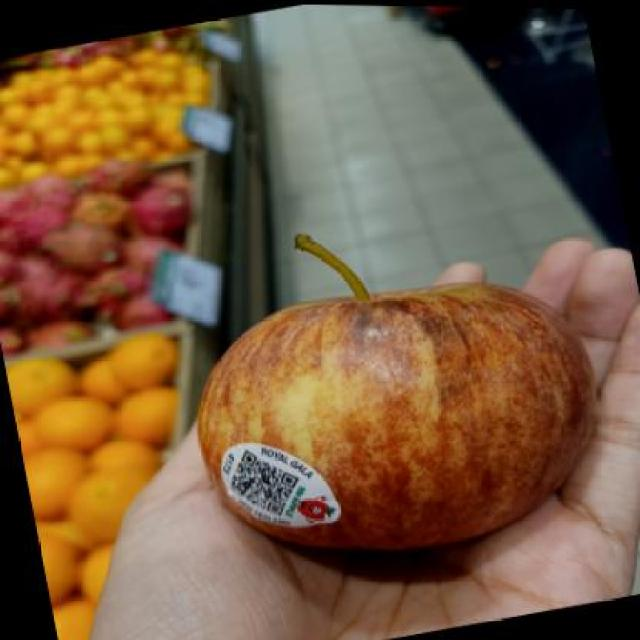Rotten: (185, 286, 580, 576)
